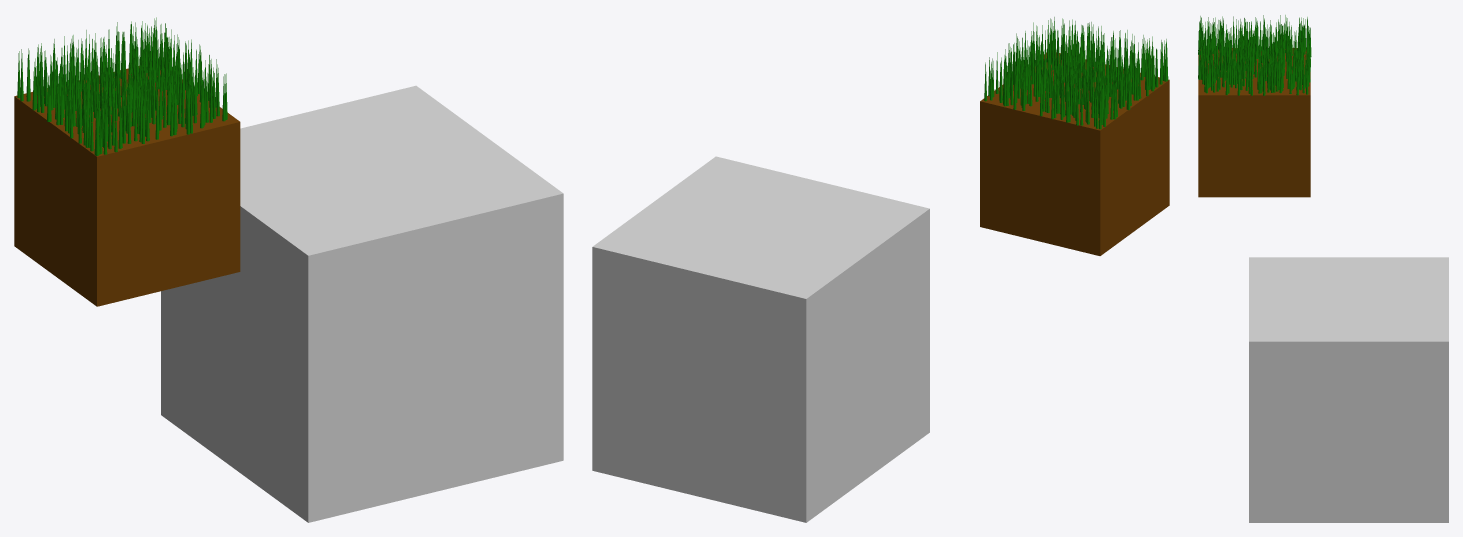
File: grassCube.gltf
3 views of the same model, side by side, from view 1: azimuth 30°, elevation 25°; view 2: azimuth 150°, elevation 25°; view 3: azimuth 270°, elevation 25° (orthographic). The views are drawn at different scales.
Visible parts, largest first — view 1: Cube.001, Cube; view 2: Cube.001, Cube; view 3: Cube.001, Cube.
Boxes of the visible parts, x1,y1,x2,y2 form: Cube.001: (161, 85, 563, 522); Cube: (14, 66, 240, 306); Cube.001: (592, 156, 929, 522); Cube: (980, 52, 1169, 255); Cube.001: (1249, 257, 1448, 522); Cube: (1198, 48, 1310, 197).
Size of the model in its own units: 7.05 by 6.72 by 4.47.
